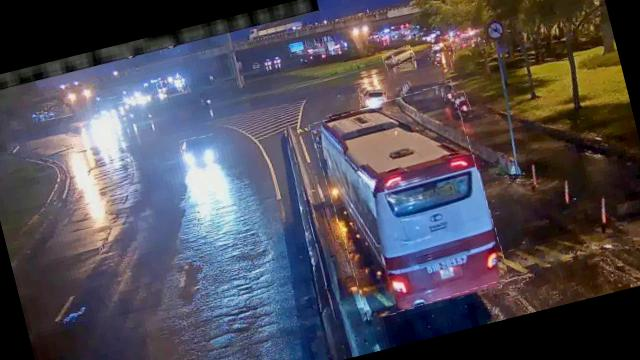Bike: (453, 90, 472, 120), (440, 80, 456, 101)
Bus: (311, 82, 508, 320)
Car: (179, 134, 220, 172), (358, 82, 390, 112), (382, 45, 416, 70)
